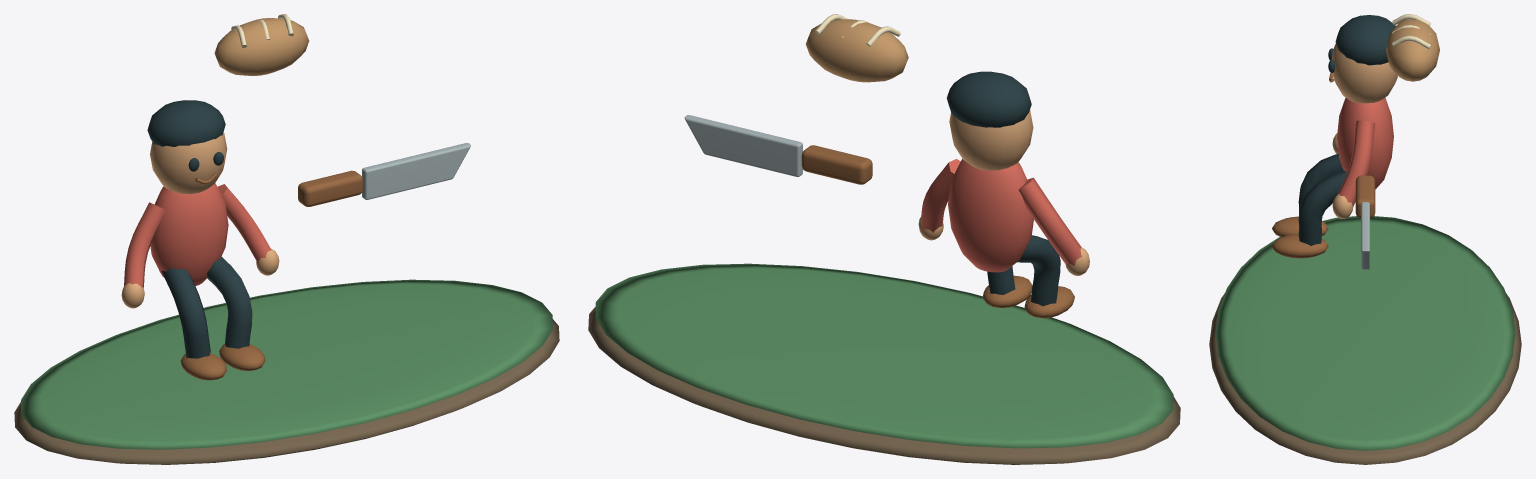
Rendered from complete-third-rider-leftover-cut.glb.
The picture shows the model from 3 angles, left to right: view 1: azimuth 30°, elevation 25°; view 2: azimuth 150°, elevation 25°; view 3: azimuth 270°, elevation 25°; orthographic projection. The views are drawn at different scales.
Parts seen in each view (by area): view 1: complete-third-rider-leftover-cut_surface_01, complete-third-rider-leftover-cut_surface_00, complete-third-rider-leftover-cut_surface_05, complete-third-rider-leftover-cut_surface_03, complete-third-rider-leftover-cut_surface_07, complete-third-rider-leftover-cut_surface_02, complete-third-rider-leftover-cut_surface_04, complete-third-rider-leftover-cut_surface_06; view 2: complete-third-rider-leftover-cut_surface_01, complete-third-rider-leftover-cut_surface_05, complete-third-rider-leftover-cut_surface_00, complete-third-rider-leftover-cut_surface_03, complete-third-rider-leftover-cut_surface_07, complete-third-rider-leftover-cut_surface_06, complete-third-rider-leftover-cut_surface_02, complete-third-rider-leftover-cut_surface_04; view 3: complete-third-rider-leftover-cut_surface_01, complete-third-rider-leftover-cut_surface_00, complete-third-rider-leftover-cut_surface_03, complete-third-rider-leftover-cut_surface_05, complete-third-rider-leftover-cut_surface_02, complete-third-rider-leftover-cut_surface_07, complete-third-rider-leftover-cut_surface_04, complete-third-rider-leftover-cut_surface_06, complete-third-rider-leftover-cut_surface_08.
Part boxes in pixels (box(x1,y1,x2,y2)): complete-third-rider-leftover-cut_surface_01: box(21, 279, 552, 449); complete-third-rider-leftover-cut_surface_00: box(14, 319, 559, 464); complete-third-rider-leftover-cut_surface_05: box(123, 183, 271, 288); complete-third-rider-leftover-cut_surface_03: box(147, 100, 252, 358); complete-third-rider-leftover-cut_surface_07: box(214, 18, 309, 75); complete-third-rider-leftover-cut_surface_02: box(121, 132, 279, 308); complete-third-rider-leftover-cut_surface_04: box(180, 170, 362, 380); complete-third-rider-leftover-cut_surface_06: box(362, 143, 470, 199); complete-third-rider-leftover-cut_surface_01: box(595, 263, 1173, 448); complete-third-rider-leftover-cut_surface_05: box(921, 159, 1081, 272); complete-third-rider-leftover-cut_surface_00: box(588, 307, 1180, 464); complete-third-rider-leftover-cut_surface_03: box(946, 71, 1060, 306); complete-third-rider-leftover-cut_surface_07: box(806, 19, 908, 82); complete-third-rider-leftover-cut_surface_06: box(684, 115, 802, 176); complete-third-rider-leftover-cut_surface_02: box(918, 110, 1089, 275); complete-third-rider-leftover-cut_surface_04: box(801, 145, 1074, 318); complete-third-rider-leftover-cut_surface_01: box(1215, 216, 1515, 450); complete-third-rider-leftover-cut_surface_00: box(1209, 293, 1521, 464); complete-third-rider-leftover-cut_surface_03: box(1298, 15, 1395, 245); complete-third-rider-leftover-cut_surface_05: box(1336, 97, 1393, 206); complete-third-rider-leftover-cut_surface_02: box(1331, 43, 1397, 218); complete-third-rider-leftover-cut_surface_07: box(1386, 19, 1439, 81); complete-third-rider-leftover-cut_surface_04: box(1272, 72, 1375, 258); complete-third-rider-leftover-cut_surface_06: box(1361, 202, 1369, 269); complete-third-rider-leftover-cut_surface_08: box(1392, 14, 1430, 49).
Size of the model in its own units: 4.56 by 2.95 by 2.5.
